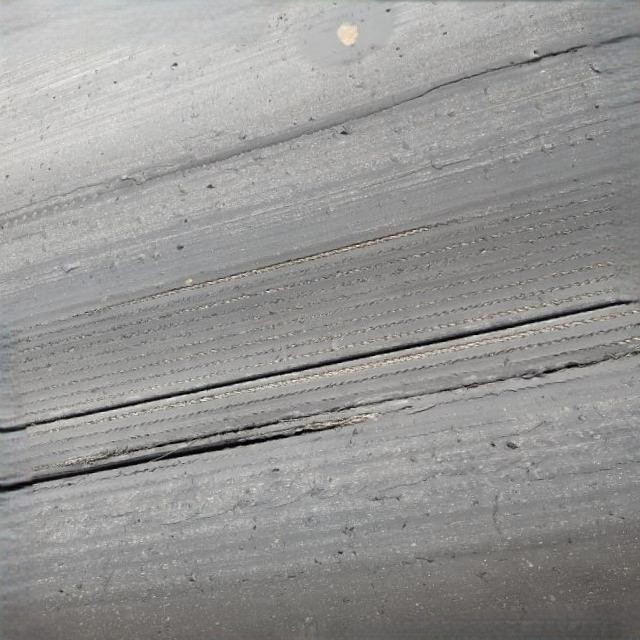Tear: (6, 287, 636, 435), (98, 342, 639, 459), (9, 416, 344, 498), (363, 27, 616, 119)
Wear: (5, 170, 640, 430)
